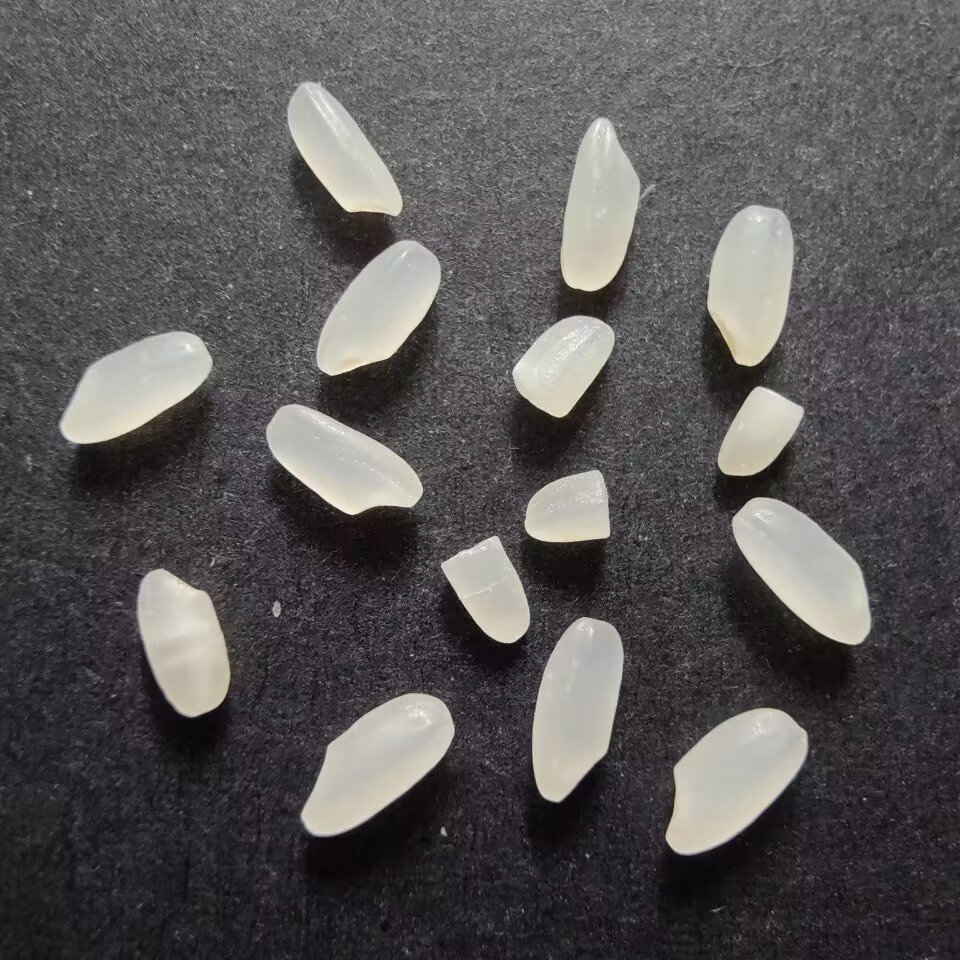broken: (509, 311, 620, 422), (434, 534, 538, 646), (709, 383, 804, 481), (519, 461, 615, 546)
rice: (296, 690, 459, 838), (727, 494, 879, 648), (658, 706, 812, 855), (51, 326, 218, 448), (527, 614, 629, 804), (263, 402, 428, 518), (311, 236, 444, 377), (283, 76, 405, 223), (555, 112, 644, 294), (134, 567, 237, 720), (705, 201, 797, 366)
